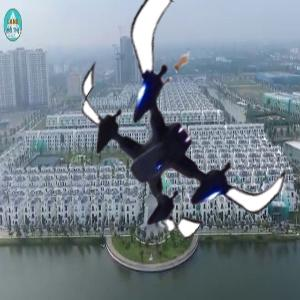drone: (62, 23, 298, 259)
